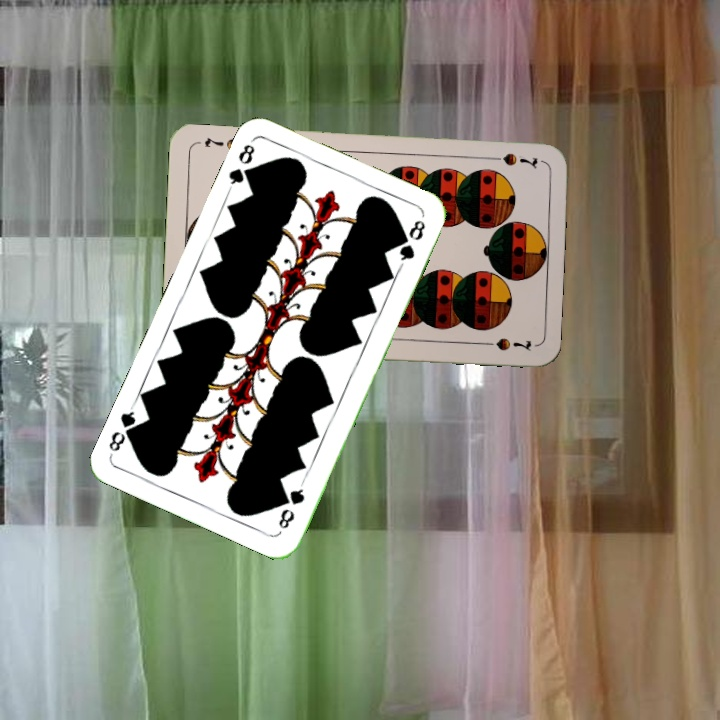G8: (224, 137, 258, 193), (274, 478, 307, 532)
S7: (483, 149, 540, 171)
